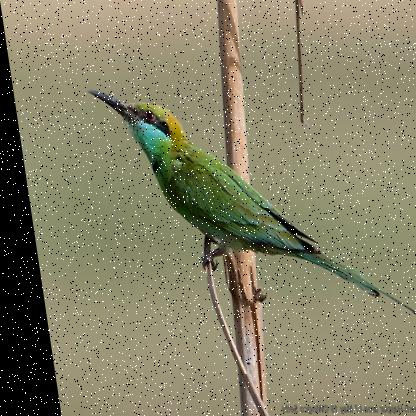Burung: (85, 86, 415, 341)
